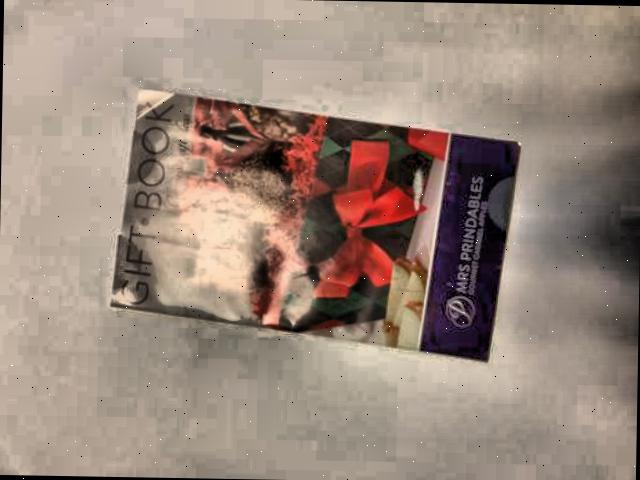Paper: (88, 66, 527, 390)
